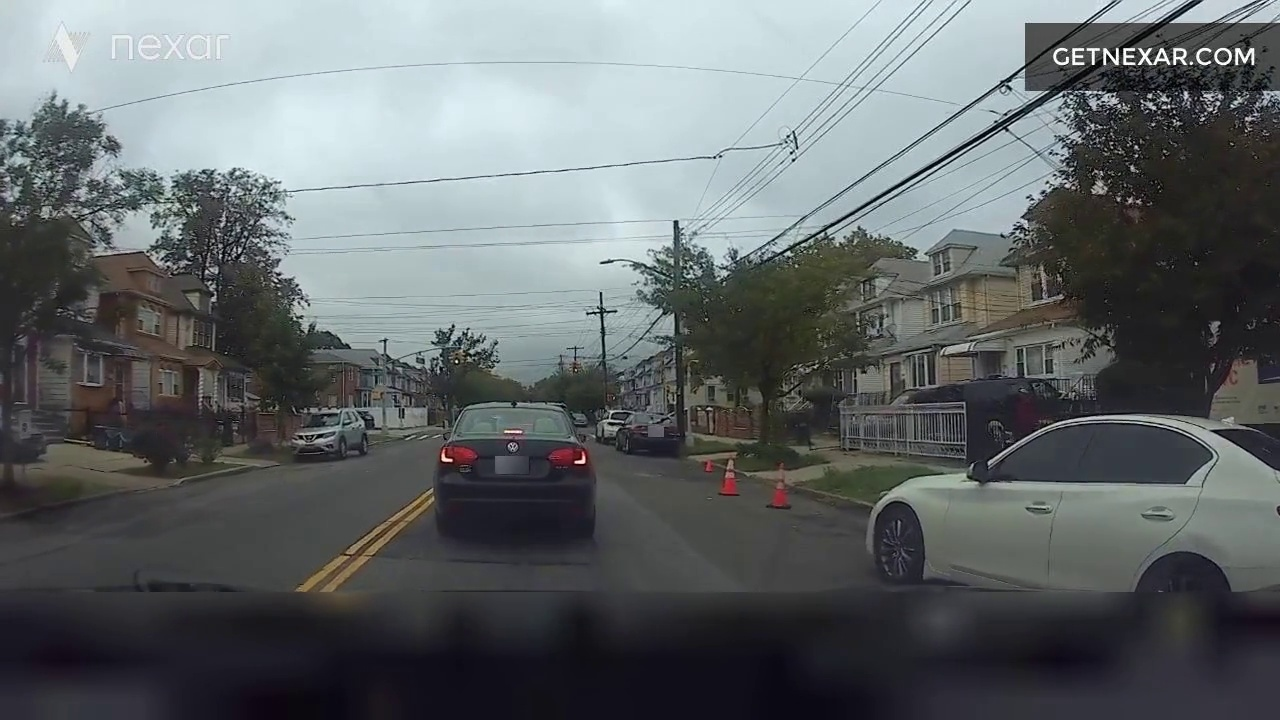car: (834, 405, 1280, 608), (432, 377, 600, 543), (603, 387, 682, 463), (295, 403, 379, 470)
traffic light: (419, 345, 475, 379)
